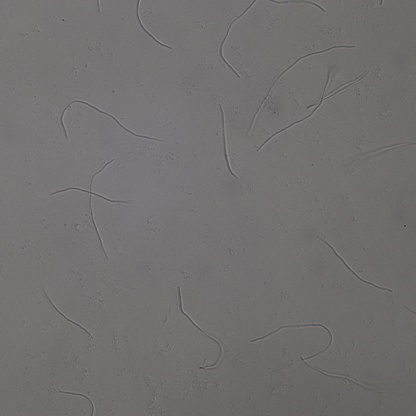Sensitive: (247, 44, 354, 131), (48, 160, 127, 259), (257, 67, 334, 152), (60, 99, 164, 142), (174, 286, 226, 371), (318, 236, 390, 292), (213, 1, 257, 79), (250, 322, 338, 359), (43, 290, 93, 338), (307, 70, 368, 107), (304, 360, 379, 390), (135, 1, 171, 49), (220, 105, 238, 178), (268, 1, 329, 14)
